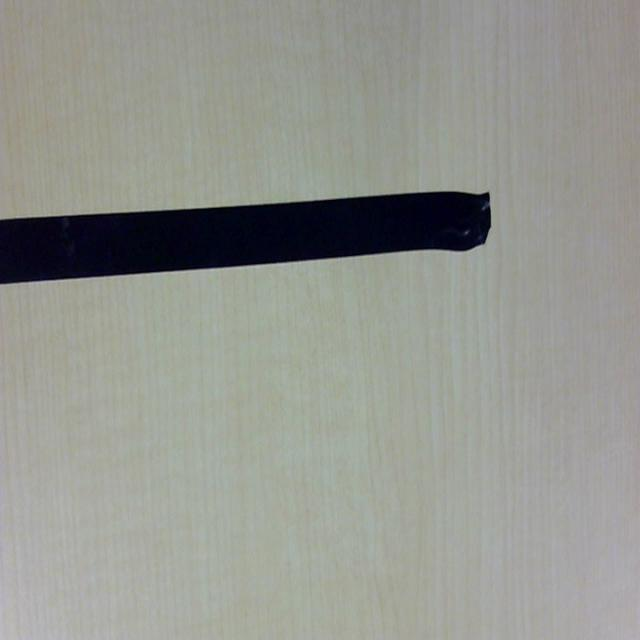tape: (0, 188, 491, 286)
